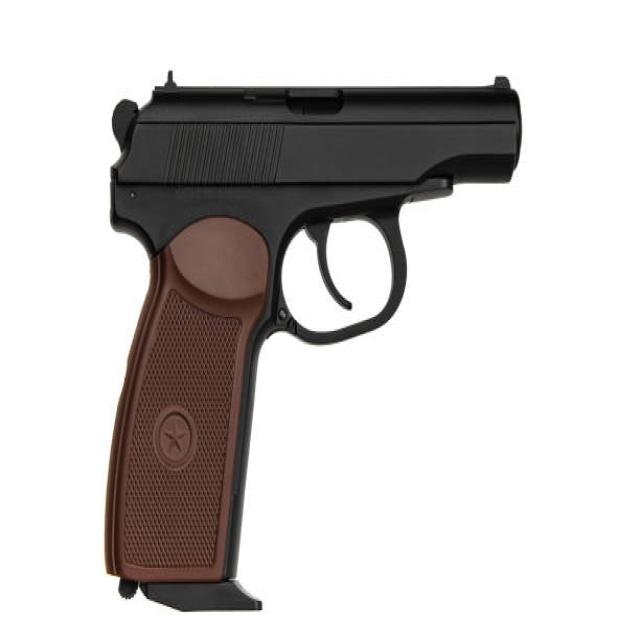pistol: (99, 65, 528, 622)
